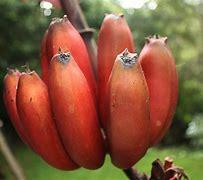banana: (2, 14, 185, 172), (42, 12, 103, 154), (96, 48, 156, 163), (133, 24, 191, 127), (7, 68, 66, 158), (89, 8, 127, 51)
